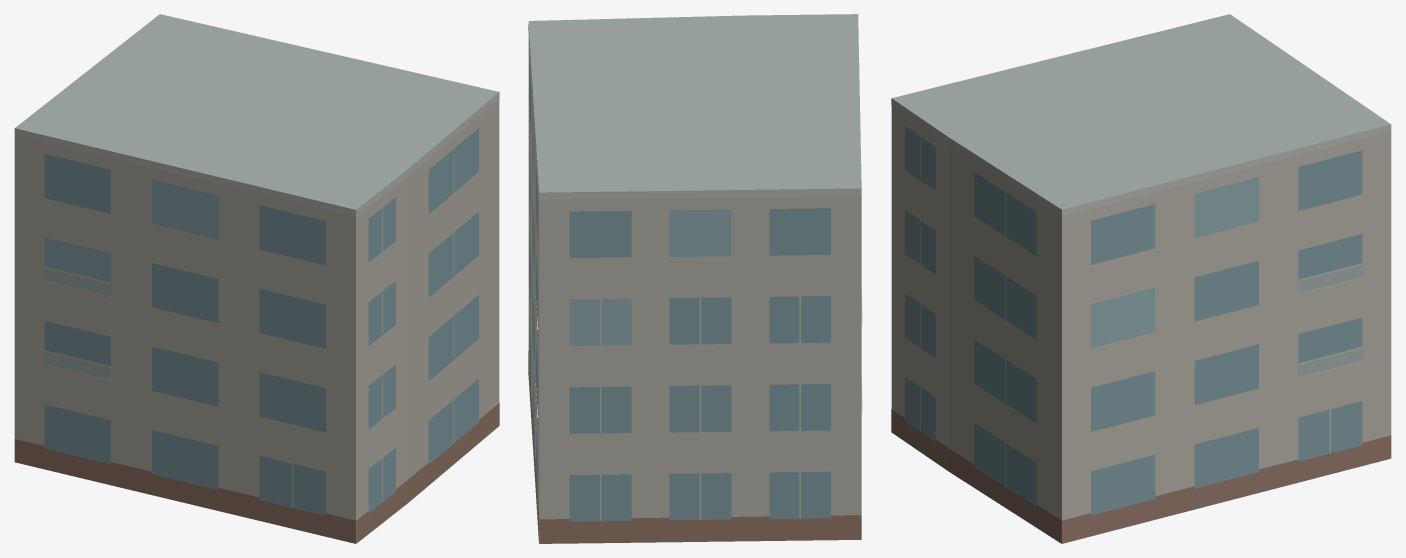
The model's file is survey-upis-33037778.glb.
3 renders of one model, left to right at view 1: azimuth 30°, elevation 25°; view 2: azimuth 150°, elevation 25°; view 3: azimuth 270°, elevation 25°, orthographic. The views are drawn at different scales.
Visible parts, largest first — view 1: survey-upis-33037778.tmp; view 2: survey-upis-33037778.tmp; view 3: survey-upis-33037778.tmp.
Boxes of the visible parts, x1=… form: survey-upis-33037778.tmp: x1=14, y1=14, x2=499, y2=543; survey-upis-33037778.tmp: x1=528, y1=14, x2=862, y2=543; survey-upis-33037778.tmp: x1=891, y1=14, x2=1391, y2=543.
Size of the model in its own units: 14.7 by 11.7 by 15.87.
